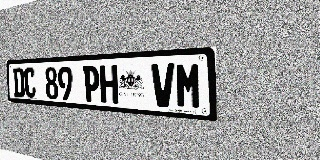8: (44, 67, 59, 100)
9: (58, 66, 73, 101)
C: (24, 67, 36, 98)
D: (13, 68, 25, 98)
H: (100, 65, 119, 104)
M: (175, 62, 202, 110)
P: (83, 65, 100, 103)
V: (151, 63, 175, 108)
